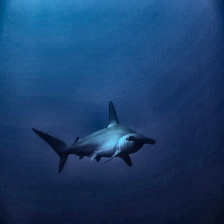shark: (32, 101, 157, 173)
